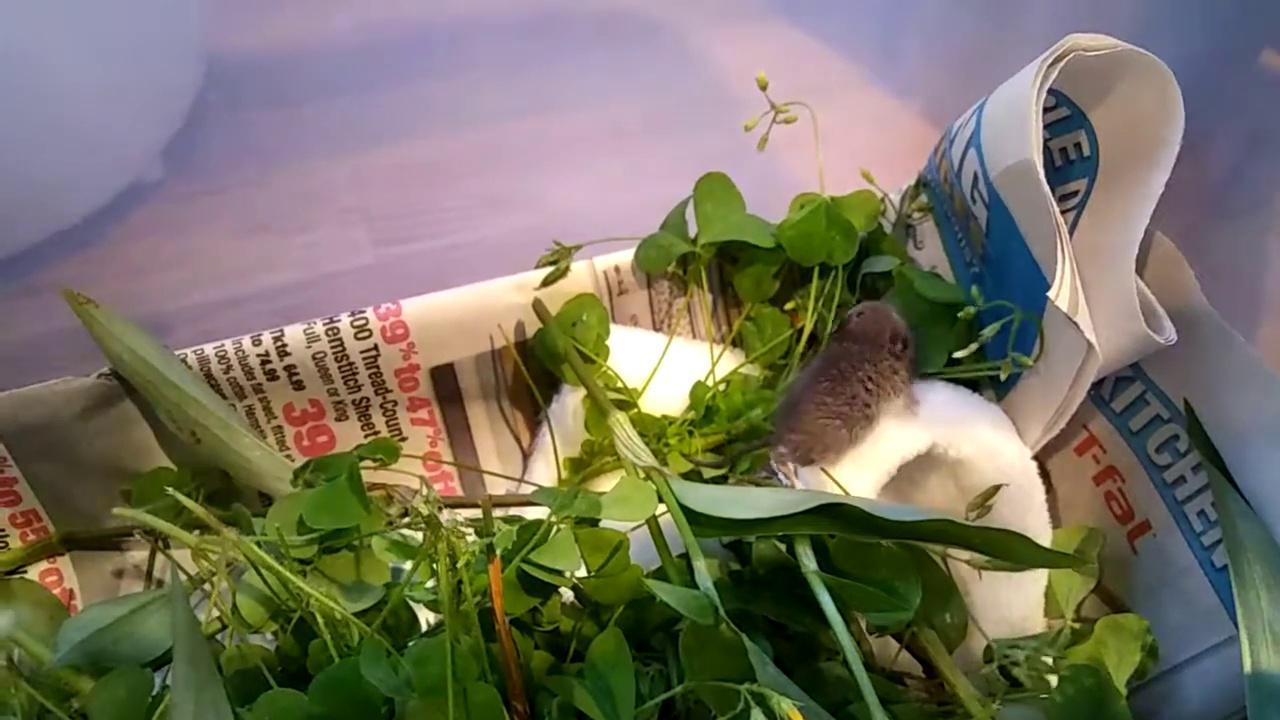rat: (764, 298, 916, 478)
